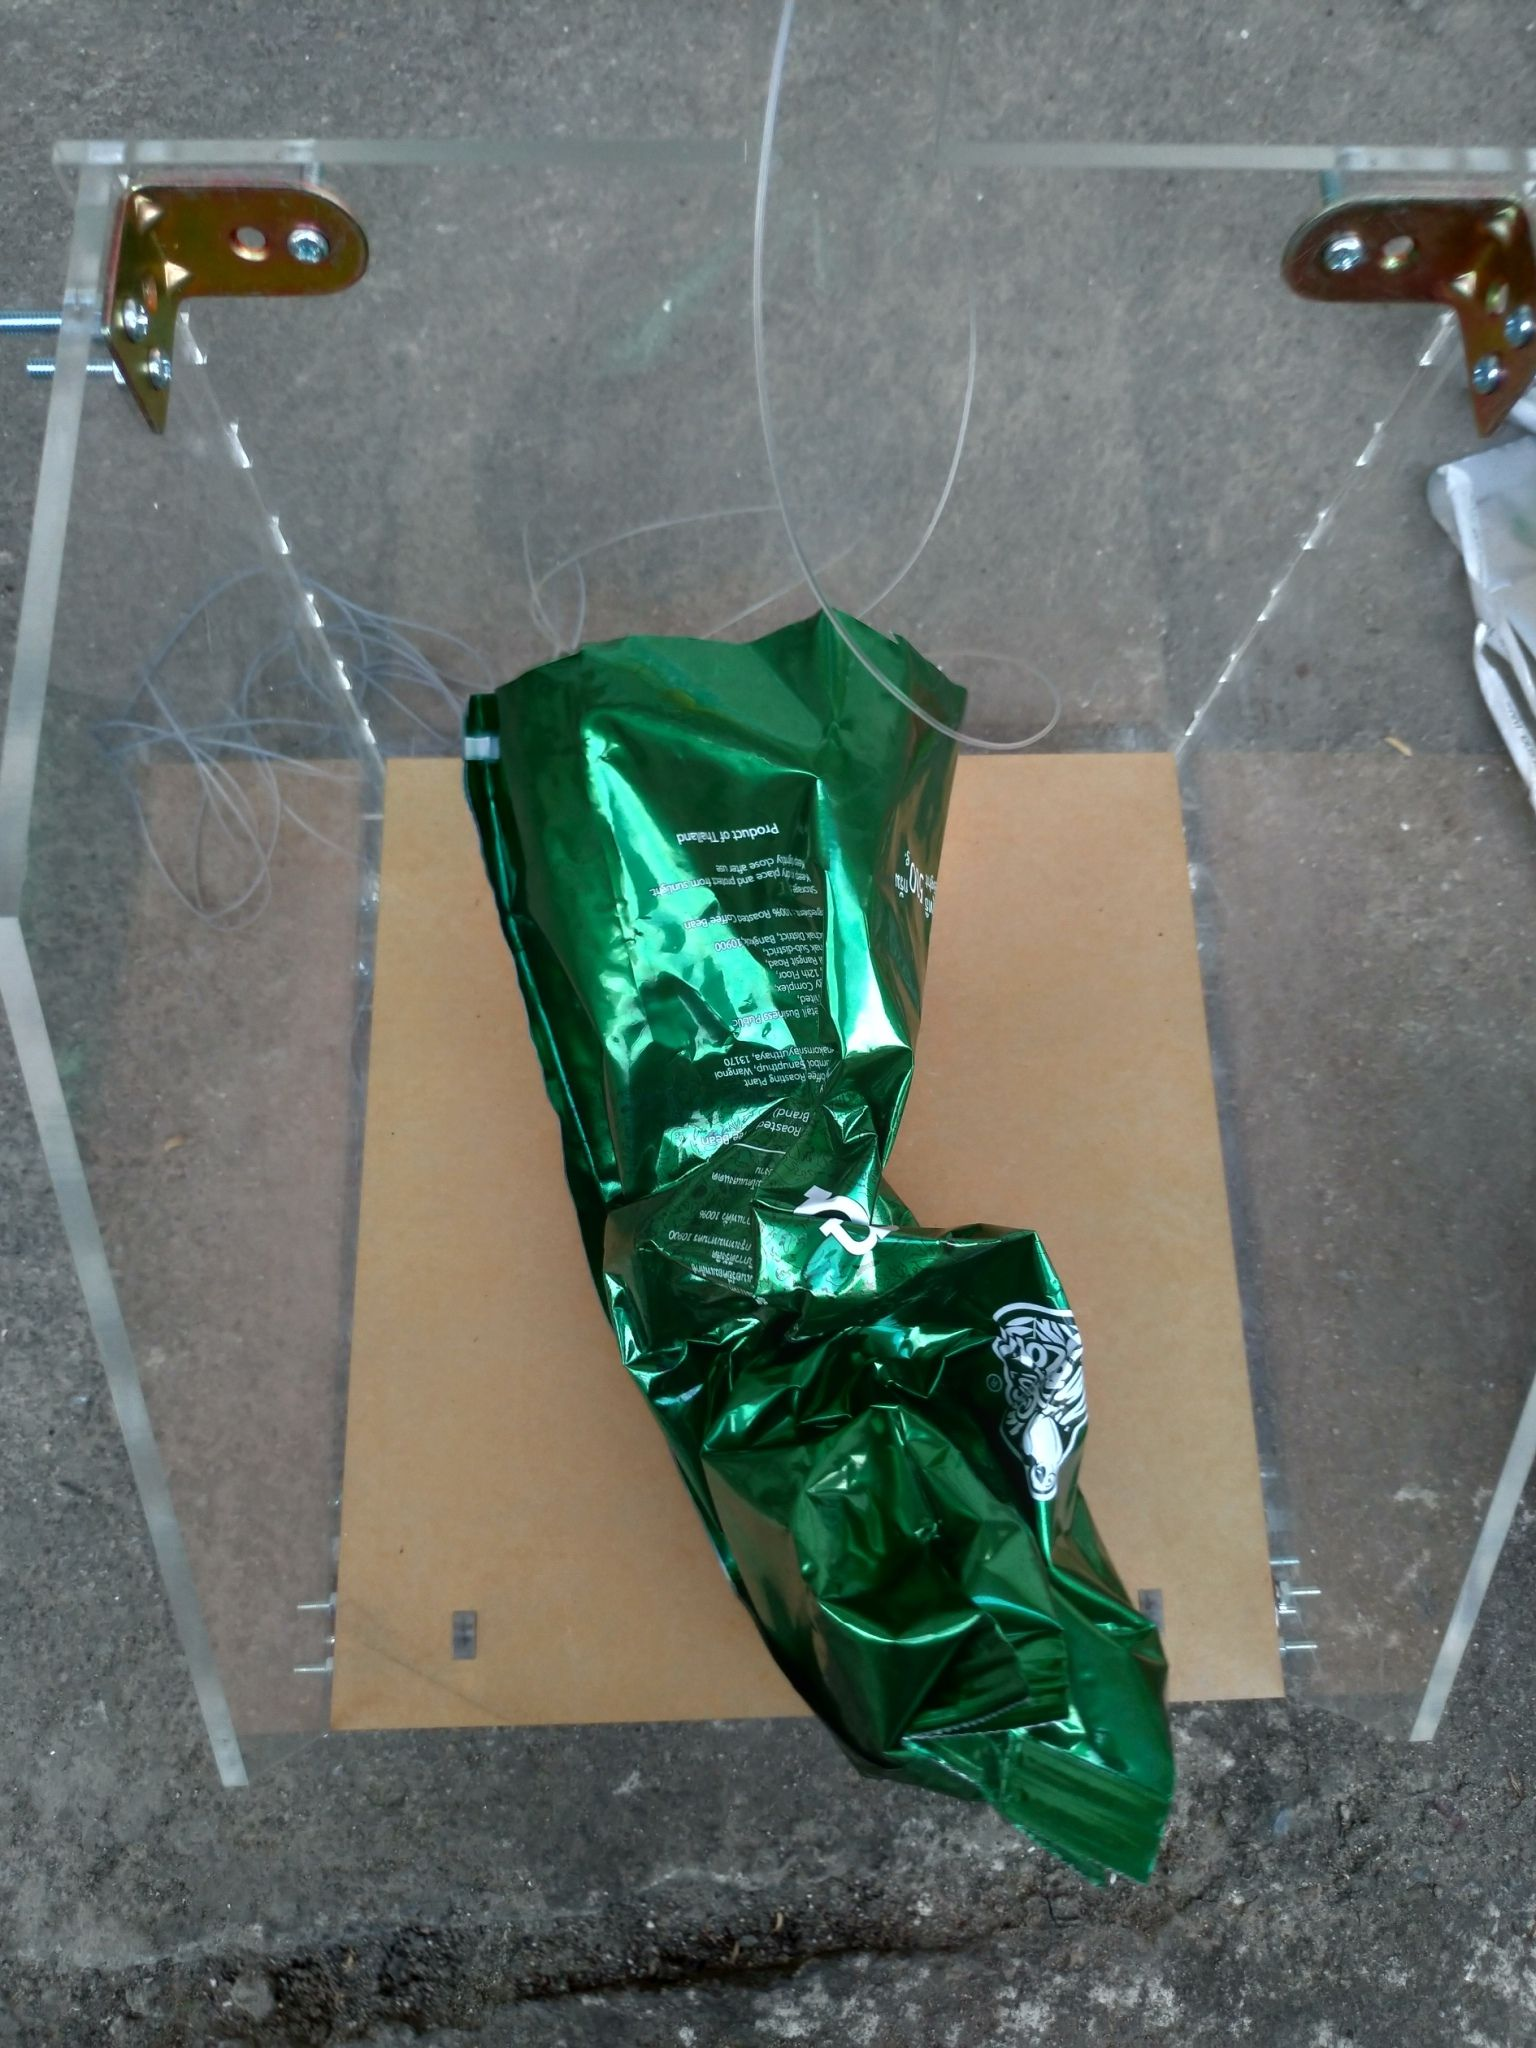Others: (466, 611, 1167, 1888)
